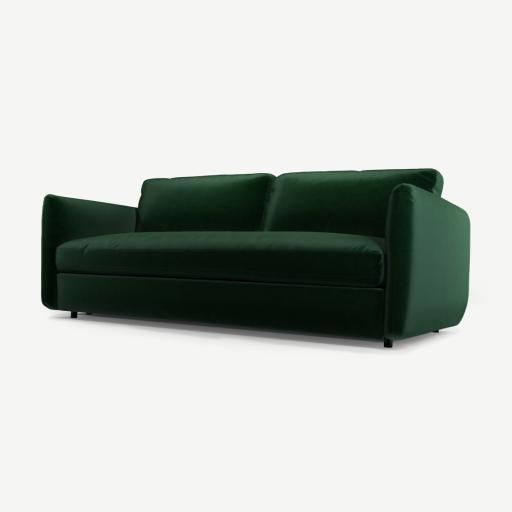back_cushion: (136, 169, 442, 237)
base: (57, 273, 418, 339)
left_arm: (384, 184, 470, 339)
legs: (384, 338, 392, 347), (70, 312, 77, 318)
right_arm: (42, 194, 136, 309)
seat_cushion: (53, 231, 384, 287)
two-seater: (0, 0, 511, 512)
